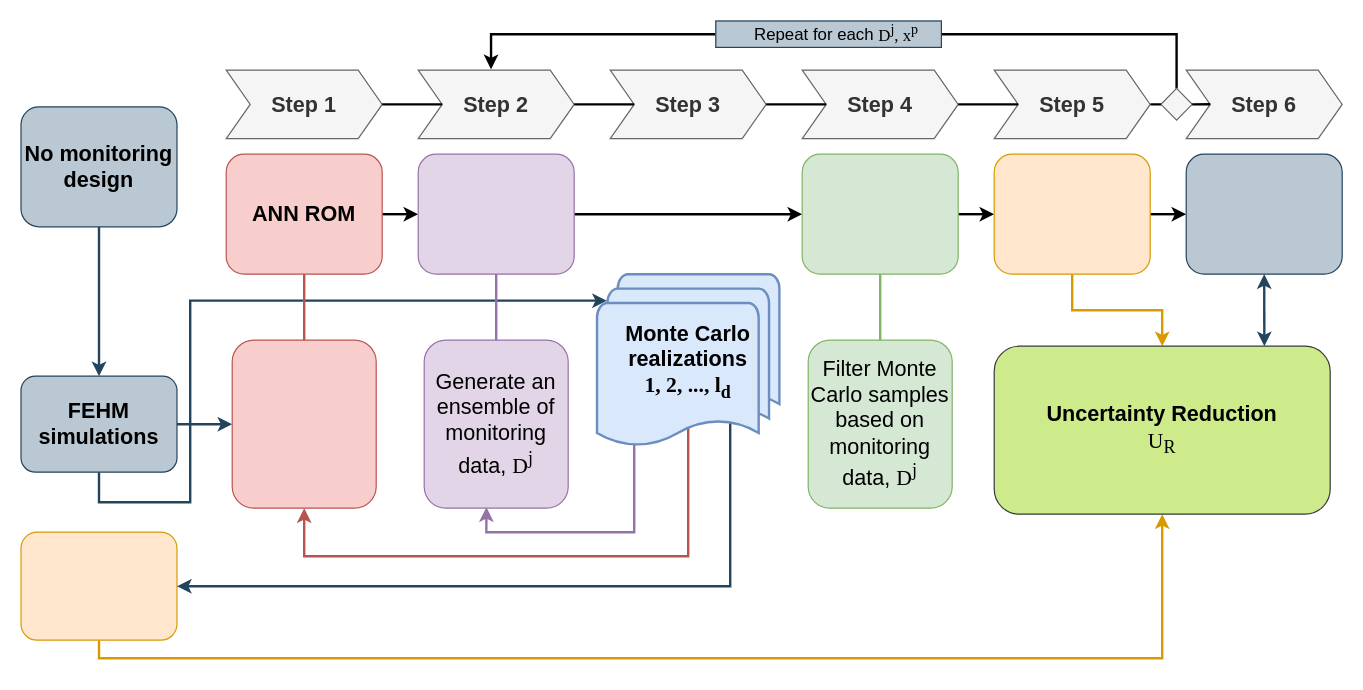
The diagram is 1363 pixels wide and 690 high, and some of its shapes have lost their labels. The box of each missing label's shape, as (x1, y1, x2, y2) in pixels:
Data assimilation: (801, 153, 958, 274)
Expected posterior uncertainty E d [U[P(M c |D j )]]: (993, 153, 1150, 274)
Monitoring realizations, D: (417, 153, 574, 274)
Pre-train ROMs to predict M c from m based on FEHM simulations: (231, 339, 376, 508)
Prior uncertainty U[P(M c )]: (20, 531, 177, 640)
Repeat 2-5 for each (D j ,x p ): (1185, 153, 1342, 274)
